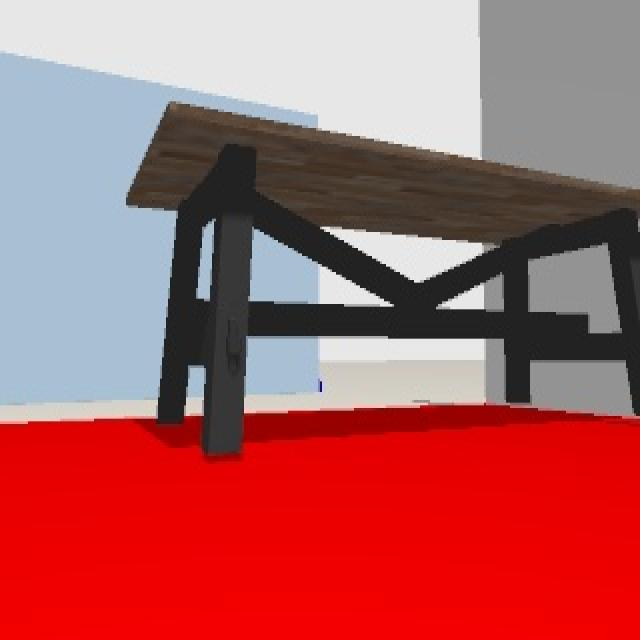dining: (124, 98, 640, 450)
